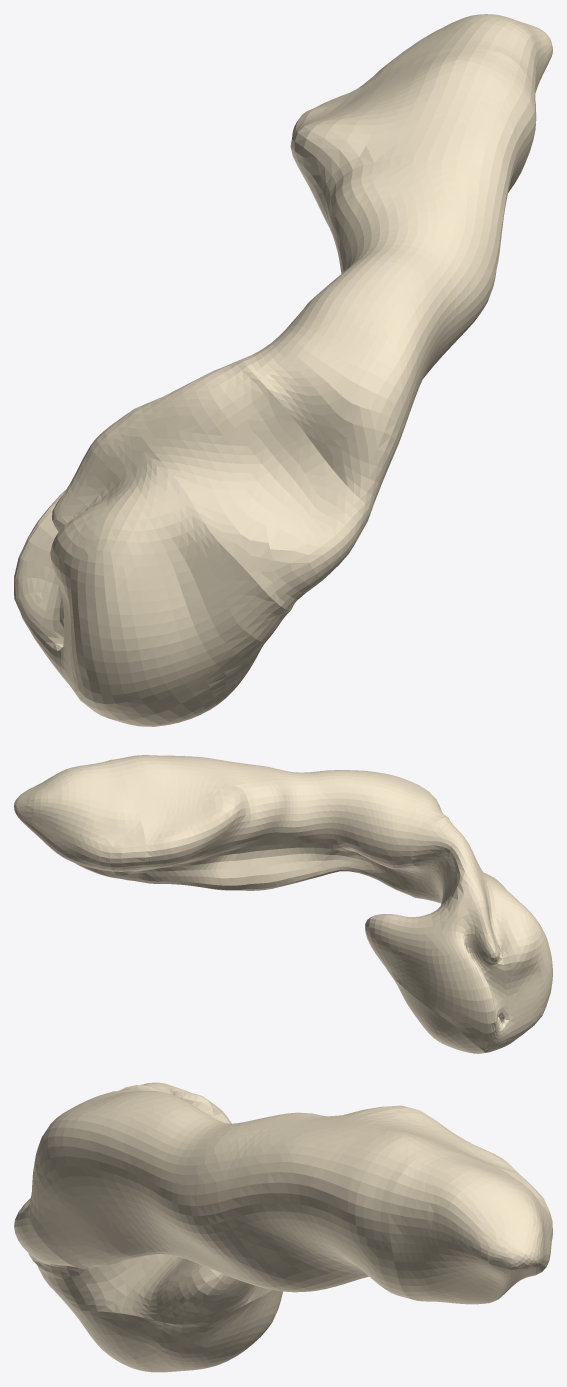
Rendered from VH_M_Pancreas_0.8.glb.
3 renders of one model, top to bottom at view 1: azimuth 30°, elevation 25°; view 2: azimuth 150°, elevation 25°; view 3: azimuth 270°, elevation 25°, orthographic. The views are drawn at different scales.
Visible parts, largest first — view 1: VH_M_body_of_pancreas, VH_M_head_of_pancreas, VH_M_neck_of_pancreas, VH_M_tail_of_pancreas, VH_M_uncinate_process_of_the_pancreas; view 2: VH_M_body_of_pancreas, VH_M_head_of_pancreas, VH_M_tail_of_pancreas, VH_M_neck_of_pancreas, VH_M_uncinate_process_of_the_pancreas; view 3: VH_M_body_of_pancreas, VH_M_tail_of_pancreas, VH_M_head_of_pancreas, VH_M_uncinate_process_of_the_pancreas, VH_M_neck_of_pancreas.
Boxes of the visible parts, x1,y1,x2,y2 form: VH_M_body_of_pancreas: (241,46,536,516); VH_M_head_of_pancreas: (14,409,290,720); VH_M_neck_of_pancreas: (133,359,369,610); VH_M_tail_of_pancreas: (334,14,552,98); VH_M_uncinate_process_of_the_pancreas: (111,646,262,726); VH_M_body_of_pancreas: (112,755,447,897); VH_M_head_of_pancreas: (365,875,552,1052); VH_M_tail_of_pancreas: (14,759,145,879); VH_M_neck_of_pancreas: (411,817,502,905); VH_M_uncinate_process_of_the_pancreas: (392,977,485,1053); VH_M_body_of_pancreas: (28,1085,520,1299); VH_M_tail_of_pancreas: (389,1151,552,1304); VH_M_head_of_pancreas: (37,1096,271,1324); VH_M_uncinate_process_of_the_pancreas: (70,1290,282,1372); VH_M_neck_of_pancreas: (14,1082,213,1274).
Size of the model in its own units: 0.1115 by 0.072 by 0.0836.
